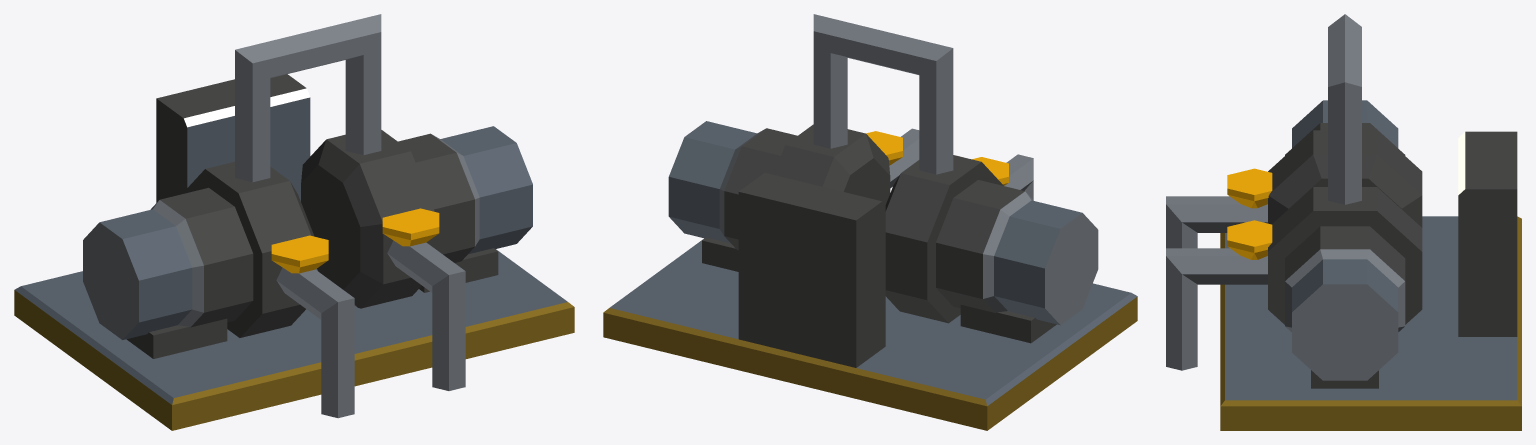
The model's file is coolant_pumps.glb.
3 renders of one model, left to right at view 1: azimuth 30°, elevation 25°; view 2: azimuth 150°, elevation 25°; view 3: azimuth 270°, elevation 25°, orthographic. The views are drawn at different scales.
Visible parts, largest first — view 1: coolant_pumps; view 2: coolant_pumps; view 3: coolant_pumps.
Boxes of the visible parts, left/top/right/bottom form: coolant_pumps: left=14, top=14, right=574, bottom=430; coolant_pumps: left=603, top=14, right=1137, bottom=430; coolant_pumps: left=1166, top=14, right=1521, bottom=430.
Bounding box in the file's own units: 1.96 × 1.41 × 1.57.
